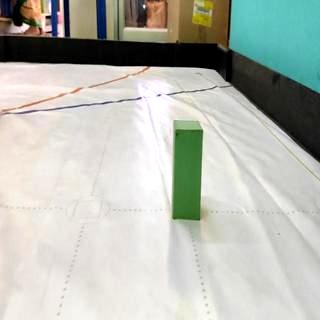greenbox: (172, 119, 204, 219)
